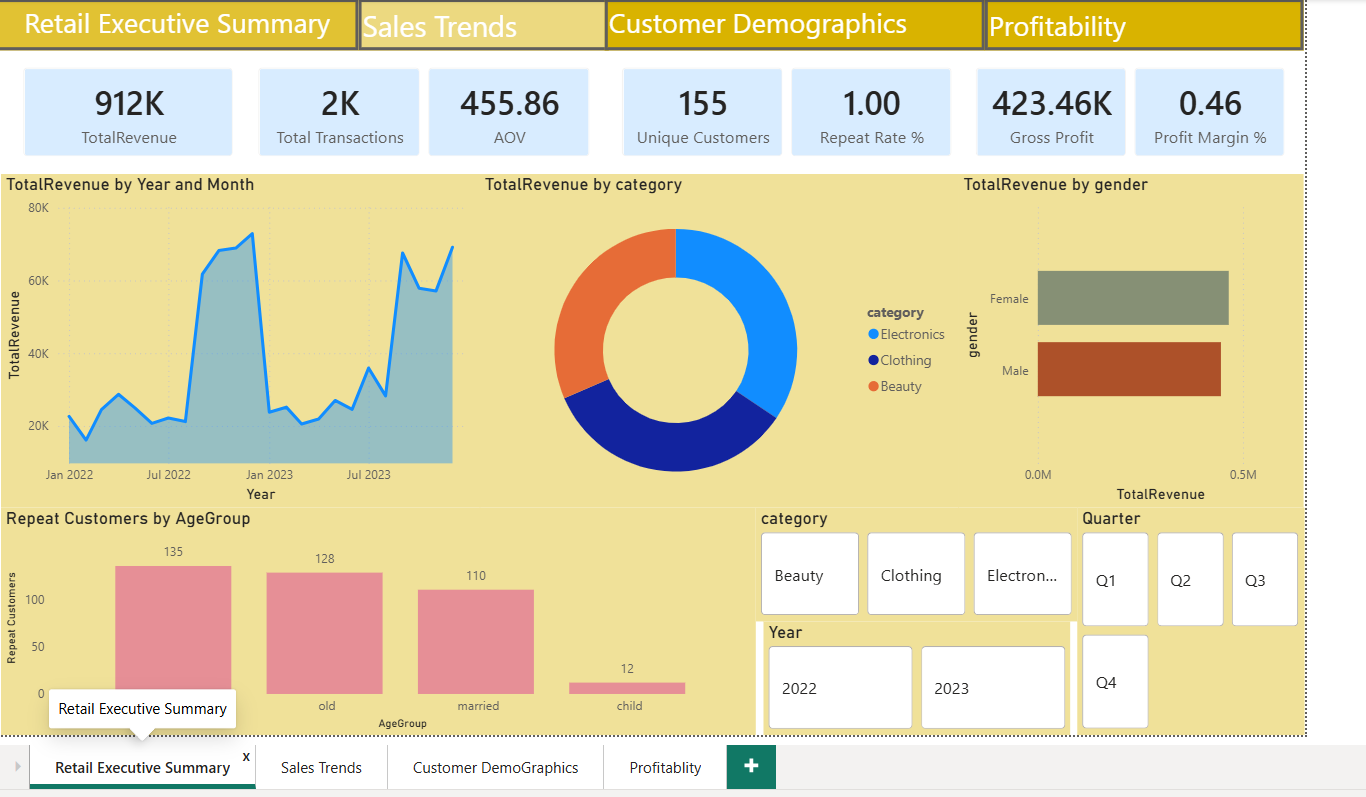

This screenshot's page, from the dashboard's own definition file:
{"tool":"powerbi","page":{"name":"Retail Executive Summary","canvas":[1280,720],"ordinal":0},"visuals":[{"type":"areaChart","fields":{"Category":["DimDate.Date.Variation.Date Hierarchy.Year","DimDate.Date.Variation.Date Hierarchy.Month"],"Y":["Measure.TotalRevenue"]},"box":[4.3,171.7,468.9,326.1],"z":0},{"type":"donutChart","fields":{"Y":["Measure.TotalRevenue"],"Category":["Retail sales.category"]},"box":[473.2,171.7,468.9,326.1],"z":1000},{"type":"barChart","fields":{"Category":["Retail sales.gender"],"Y":["Measure.TotalRevenue"]},"box":[942.1,171.7,337.6,326.1],"z":2000},{"type":"clusteredColumnChart","fields":{"Y":["Measure.Repeat Customers"],"Category":["Retail sales.AgeGroup"]},"box":[4.3,497.8,738.7,222.2],"z":3000},{"type":"advancedSlicerVisual","fields":{"Values":["Retail sales.category"]},"box":[743,497.8,314.5,111.1],"z":4000},{"type":"advancedSlicerVisual","fields":{"Values":["DimDate.Quarter"]},"box":[1057.5,497.8,222.2,222.2],"z":5000},{"type":"advancedSlicerVisual","fields":{"Values":["DimDate.Date.Variation.Date Hierarchy.Year"]},"box":[750.2,608.8,300.1,111.1],"z":6000},{"type":"cardVisual","fields":{"Data":["Measure.TotalRevenue"]},"box":[10.1,50.5,239.5,121.2],"z":7000},{"type":"cardVisual","fields":{"Data":["Measure.Total Transactions","Measure.AOV"]},"box":[239.5,50.5,359.2,121.2],"z":8000},{"type":"cardVisual","fields":{"Data":["Measure.Unique Customers","Measure.Repeat Rate %"]},"box":[595.9,50.5,356.4,121.2],"z":9000},{"type":"cardVisual","fields":{"Data":["Measure.Gross Profit","Measure.Profit Margin %"]},"box":[942.1,50.5,337.6,121.2],"z":10000},{"type":"actionButton","title":"Sales Trends","box":[354.6,0,244.6,50.1],"z":11000},{"type":"actionButton","title":"Retail executive summary","box":[0,0,354.6,50.1],"z":12000},{"type":"actionButton","box":[595.5,0,371.7,50.1],"z":13000},{"type":"actionButton","box":[967.3,0,311.8,50.1],"z":14000}]}

Visuals, with their boxes on the page's 1280x720 design canvas (x1, y1, x2, y2). These are canvas units, not pixel positions in the 1366x797 screenshot, which may show the page scaled, cropped or inside an application window:
areaChart - DimDate.Date.Variation.Date Hierarchy.Year x DimDate.Date.Variation.Date Hierarchy.Month: bbox=(4, 172, 473, 498)
donutChart - Measure.TotalRevenue x Retail sales.category: bbox=(473, 172, 942, 498)
barChart - Retail sales.gender x Measure.TotalRevenue: bbox=(942, 172, 1280, 498)
clusteredColumnChart - Measure.Repeat Customers x Retail sales.AgeGroup: bbox=(4, 498, 743, 720)
advancedSlicerVisual - Retail sales.category: bbox=(743, 498, 1058, 609)
advancedSlicerVisual - DimDate.Quarter: bbox=(1058, 498, 1280, 720)
advancedSlicerVisual - DimDate.Date.Variation.Date Hierarchy.Year: bbox=(750, 609, 1050, 720)
cardVisual - Measure.TotalRevenue: bbox=(10, 50, 250, 172)
cardVisual - Measure.Total Transactions x Measure.AOV: bbox=(240, 50, 599, 172)
cardVisual - Measure.Unique Customers x Measure.Repeat Rate %: bbox=(596, 50, 952, 172)
cardVisual - Measure.Gross Profit x Measure.Profit Margin %: bbox=(942, 50, 1280, 172)
"Sales Trends" actionButton: bbox=(355, 0, 599, 50)
"Retail executive summary" actionButton: bbox=(0, 0, 355, 50)
actionButton: bbox=(596, 0, 967, 50)
actionButton: bbox=(967, 0, 1279, 50)
